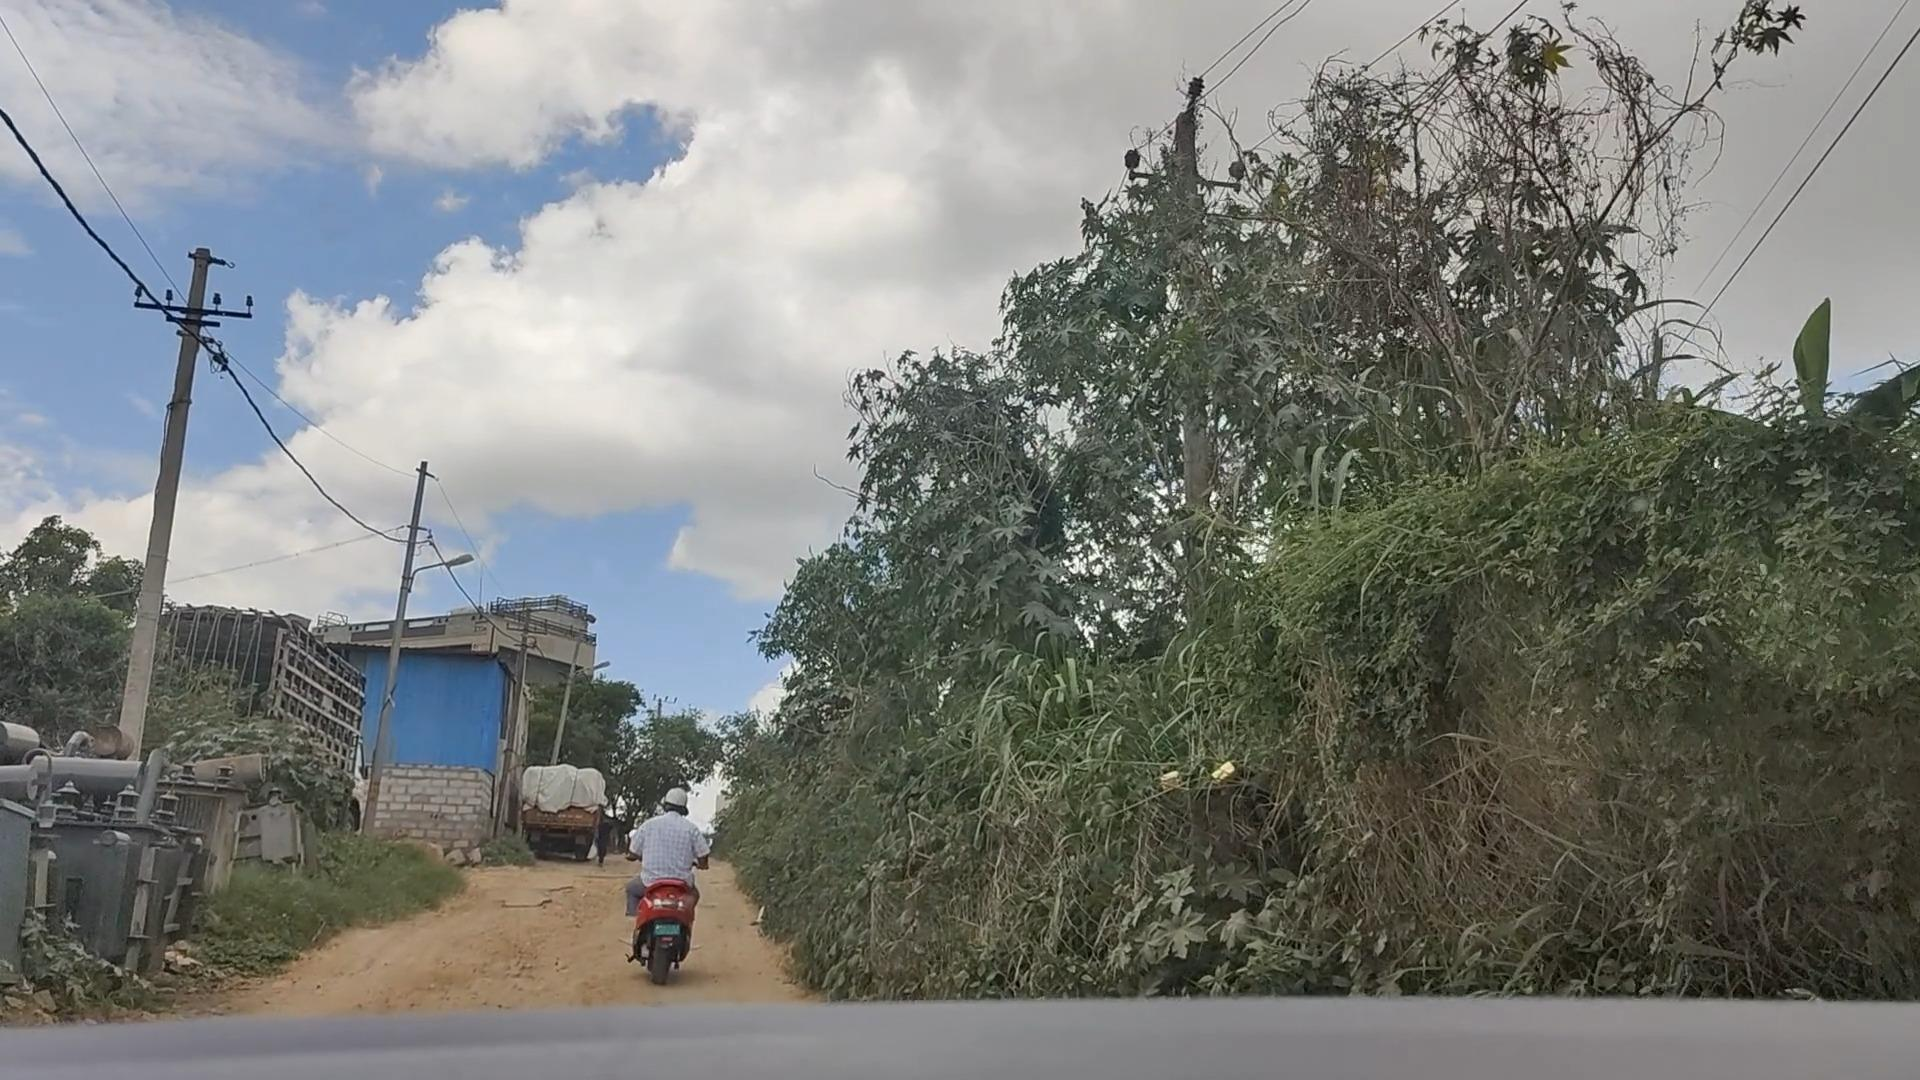HMV: (504, 758, 604, 877)
UnsurfacedRoad: (361, 894, 647, 1019)
